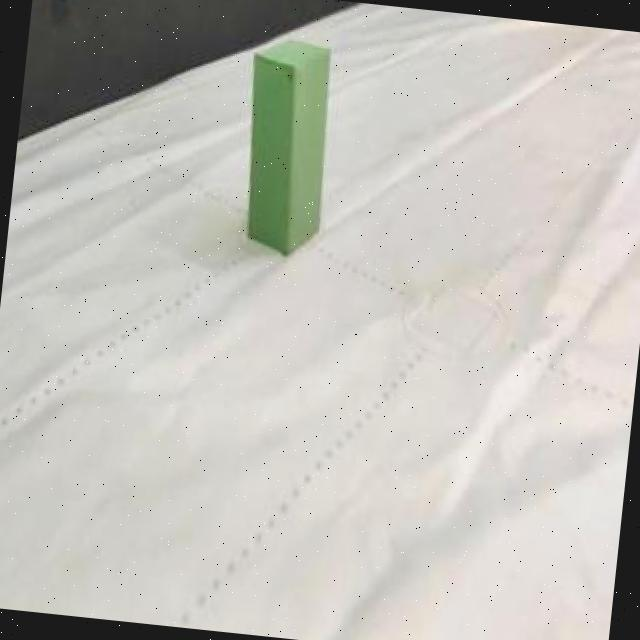greenbox: (230, 32, 344, 262)
